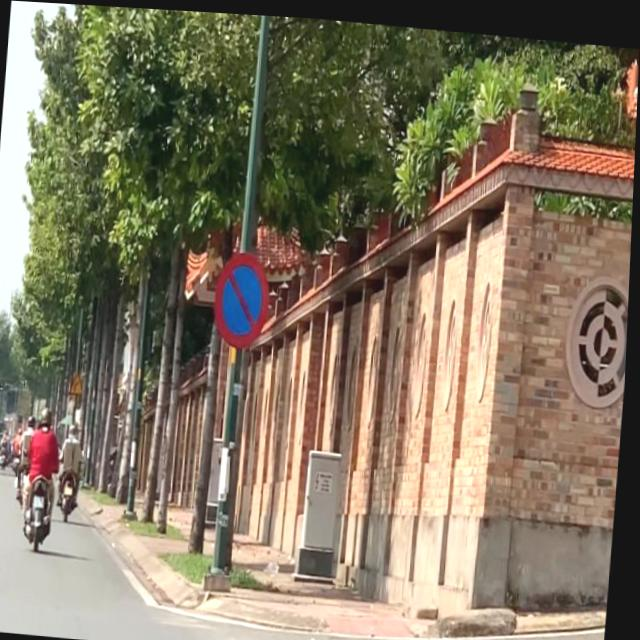Cam do xe: (209, 232, 278, 360)
cho ngoat nguy hiem vong ben phai: (70, 372, 87, 399)
